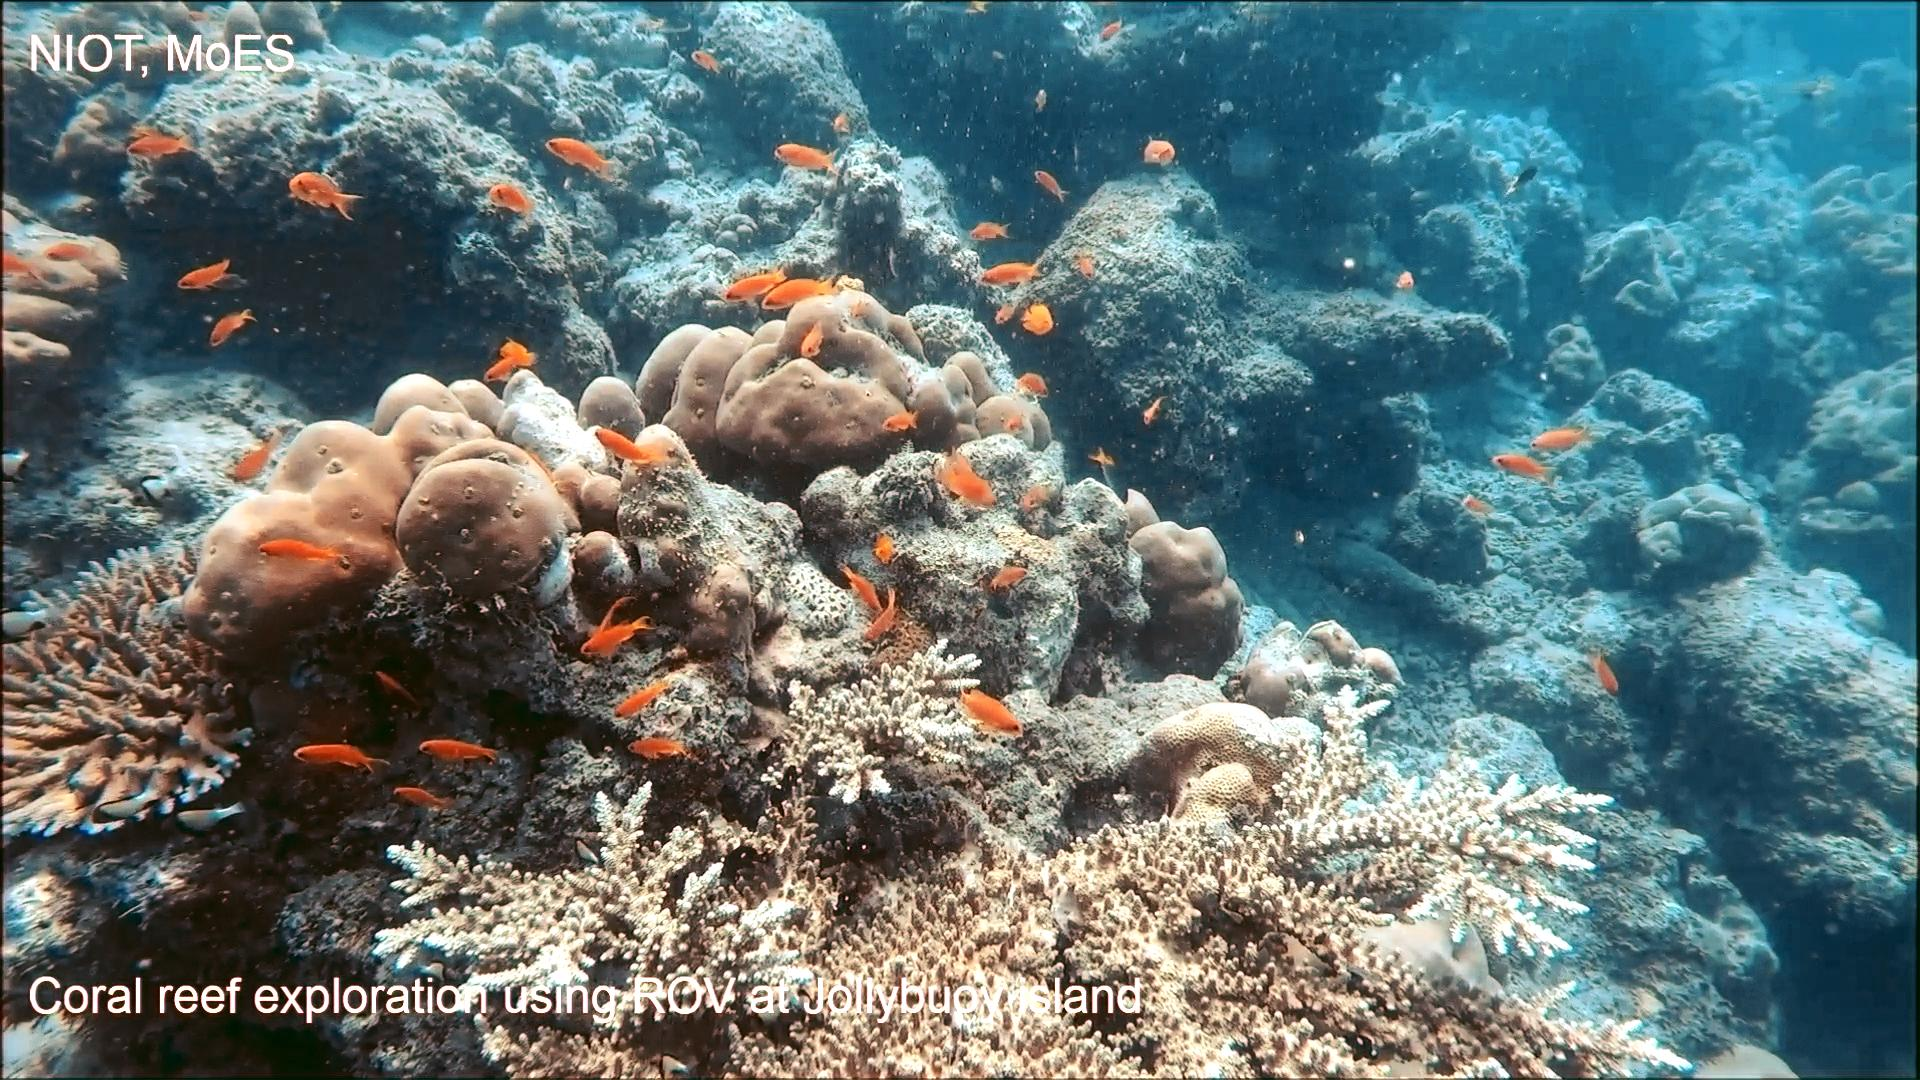Porites-Porites pukoensis: (175, 368, 579, 679), (608, 281, 1059, 498)
